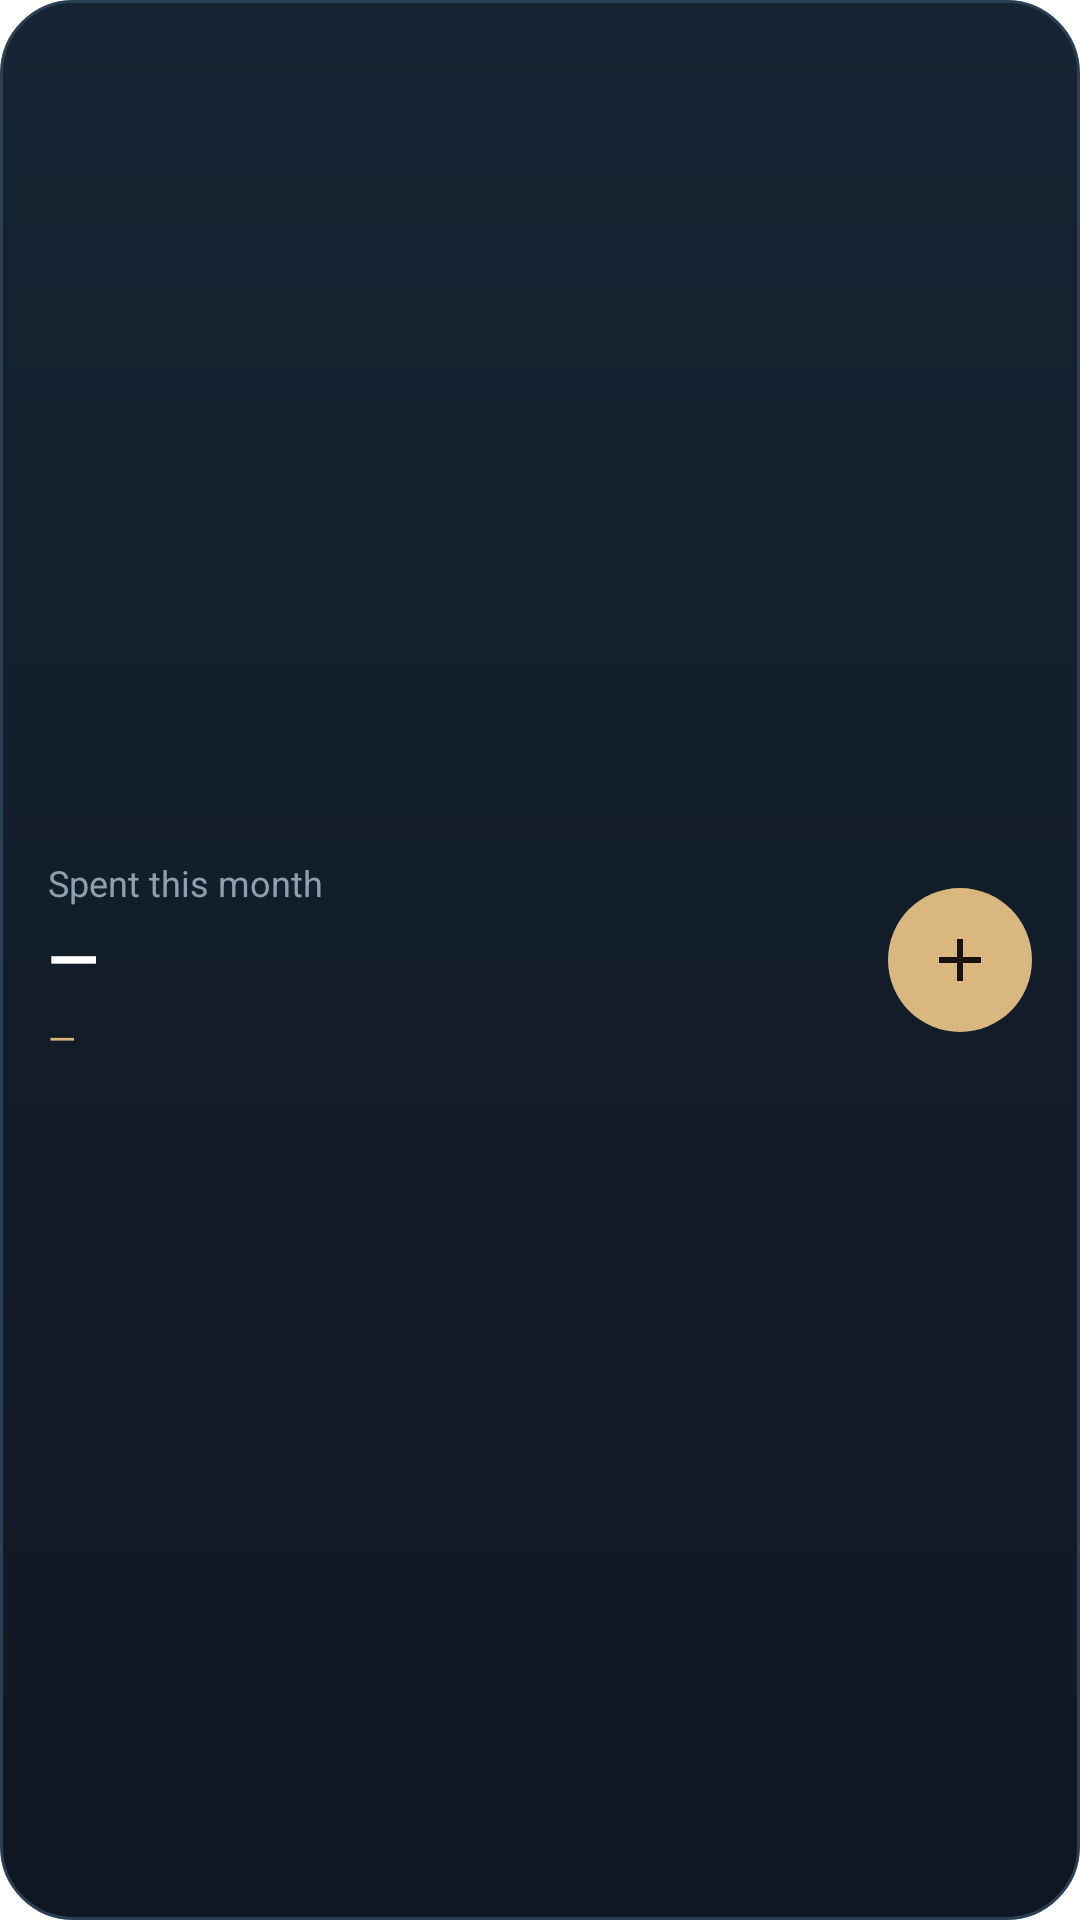

Point at icon controls on the screen. Image size 1080×1920, points as (x,y).
Add expense: (960,960)
